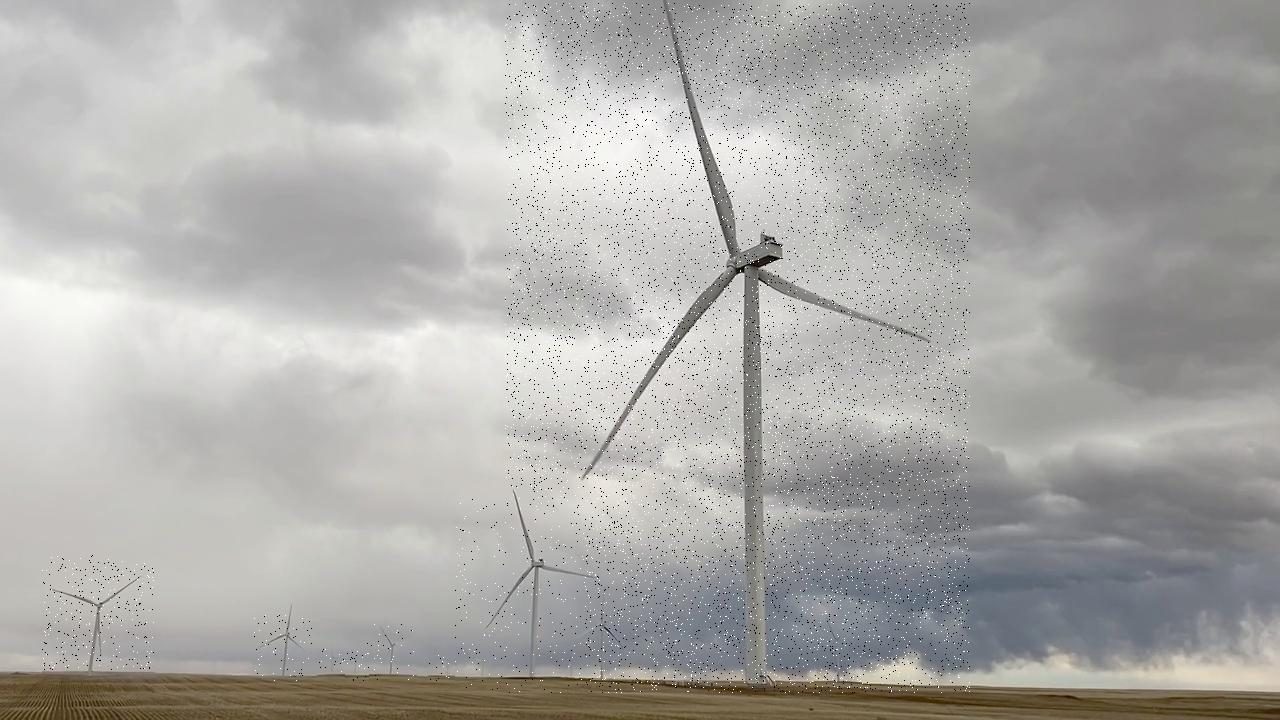turbine: (505, 3, 970, 693), (455, 499, 585, 692), (43, 556, 156, 674), (573, 587, 638, 684), (253, 613, 314, 681), (815, 616, 863, 690), (367, 625, 417, 681), (429, 654, 466, 682), (558, 646, 585, 684), (317, 650, 345, 679), (345, 651, 370, 681)
